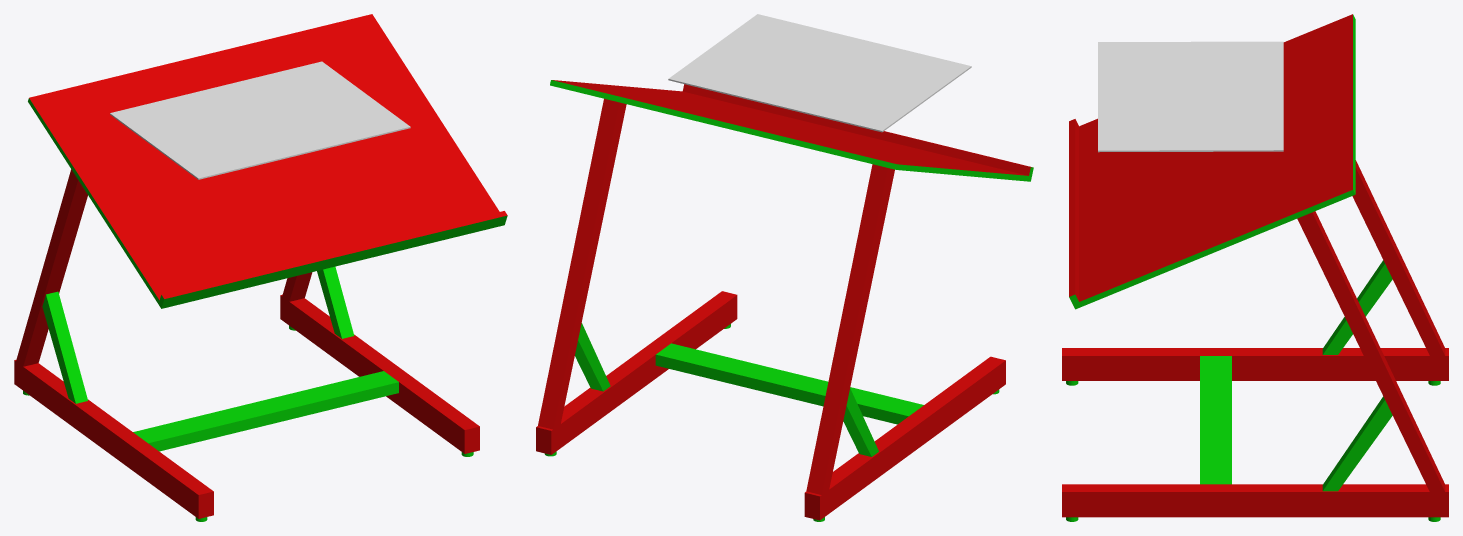
The model's file is Чертежный стол.fbx.
The picture shows the model from 3 angles, left to right: view 1: azimuth 30°, elevation 25°; view 2: azimuth 150°, elevation 25°; view 3: azimuth 270°, elevation 25°; orthographic projection. The views are drawn at different scales.
Parts seen in each view (by area): view 1: Стол чертежный, Чертеж; view 2: Стол чертежный, Чертеж; view 3: Стол чертежный, Чертеж.
Boxes of the visible parts, x1,y1,x2,y2 form: Стол чертежный: (14, 14, 507, 521); Чертеж: (110, 61, 410, 179); Стол чертежный: (536, 80, 1033, 521); Чертеж: (668, 14, 971, 132); Стол чертежный: (1062, 14, 1448, 521); Чертеж: (1098, 41, 1283, 152).
Size of the model in its own units: 90.26 by 83.68 by 83.96.
